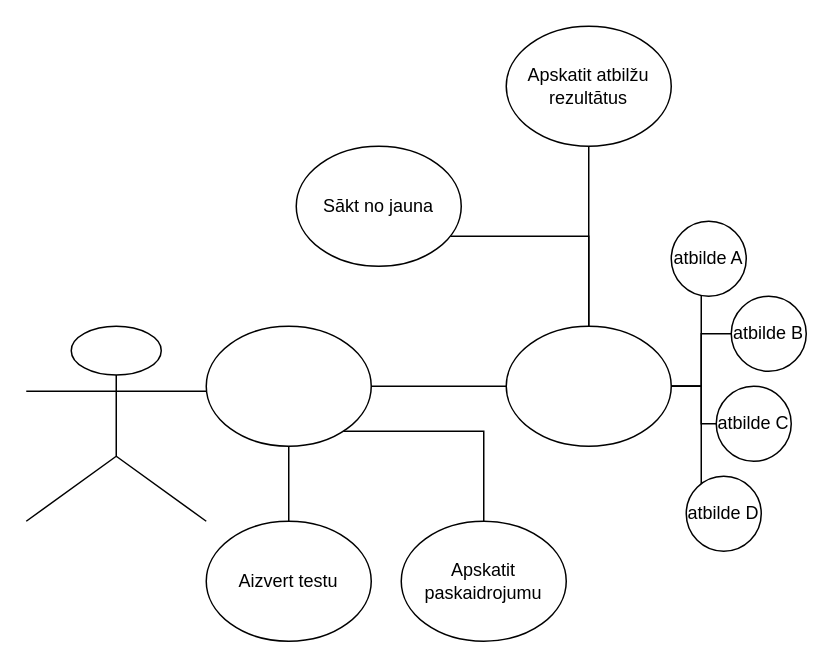
The diagram is 833 pixels wide and 668 high, and some of its shapes have lost their labels. Each missing label, with the box of its shape:
Sakt testu: (505, 325, 671, 446)
Startet testu: (205, 325, 371, 446)
Windows OS lietotājs: (25, 325, 206, 521)
